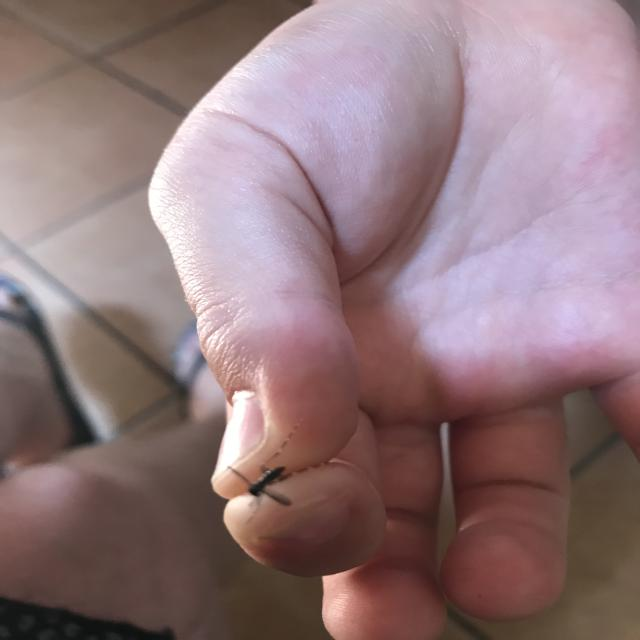albopictus: (216, 448, 342, 514)
